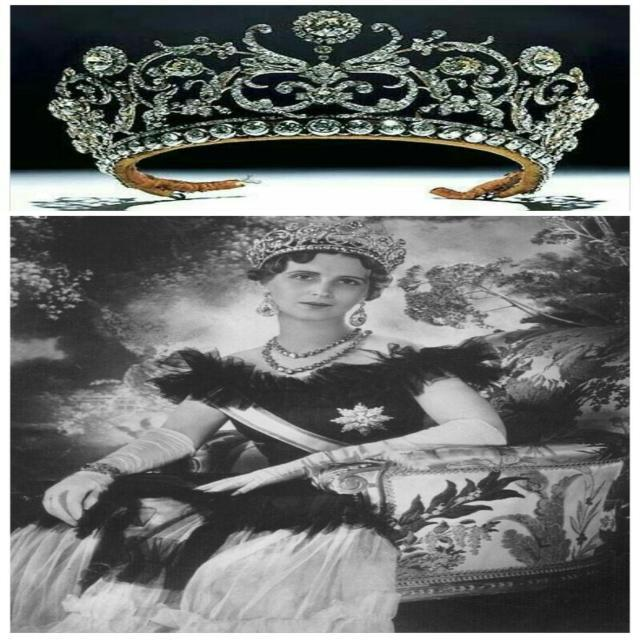Earring: (254, 288, 281, 320), (348, 299, 368, 331)
